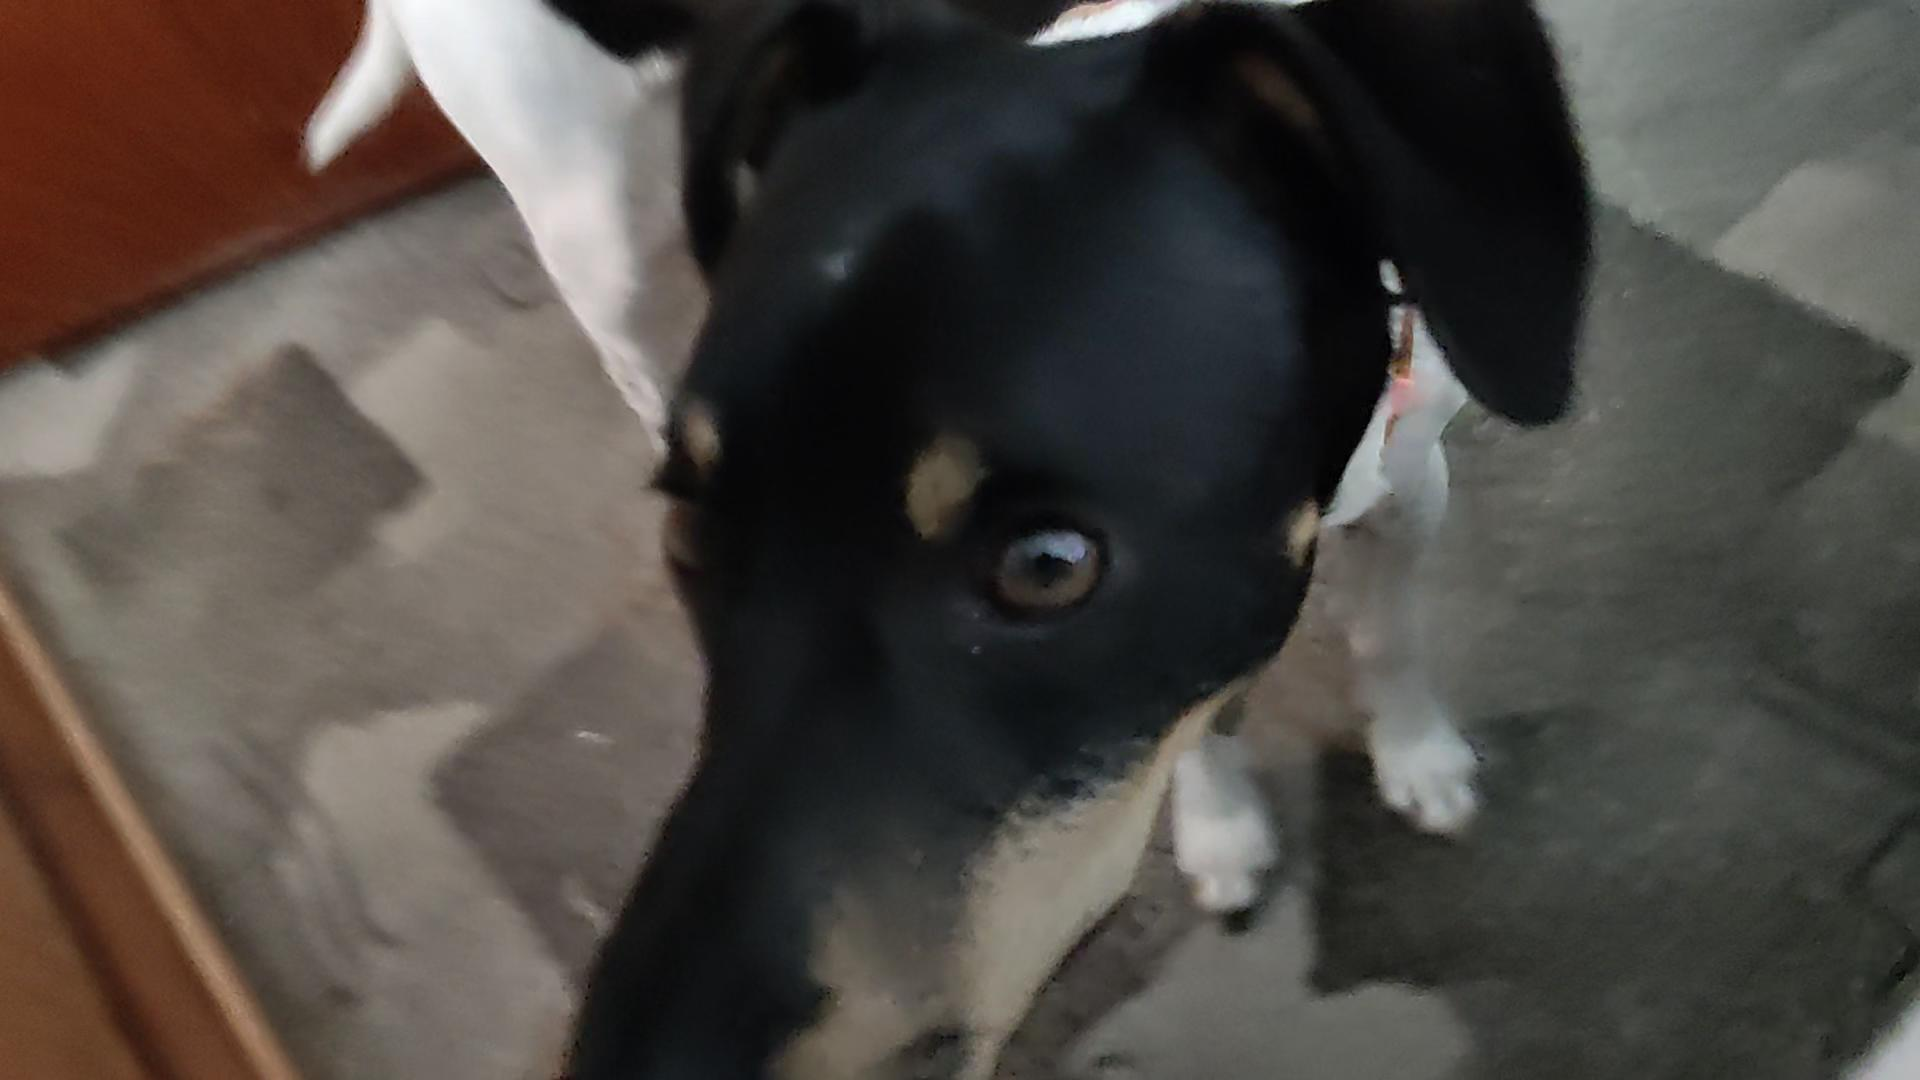Dog: (280, 0, 1611, 1080)
